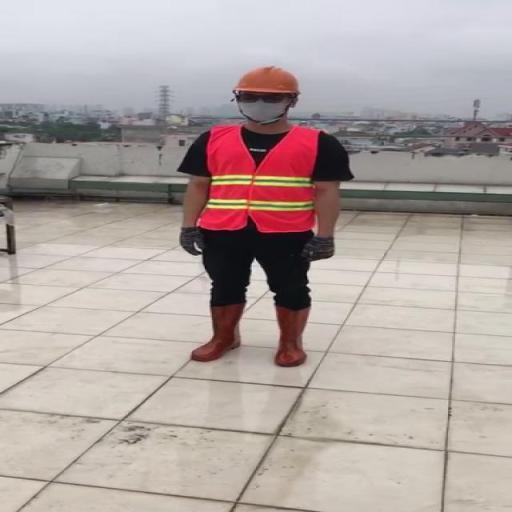Boots: (186, 302, 246, 360), (273, 306, 313, 367)
Helmet: (232, 64, 302, 94)
Person: (170, 62, 356, 371)
